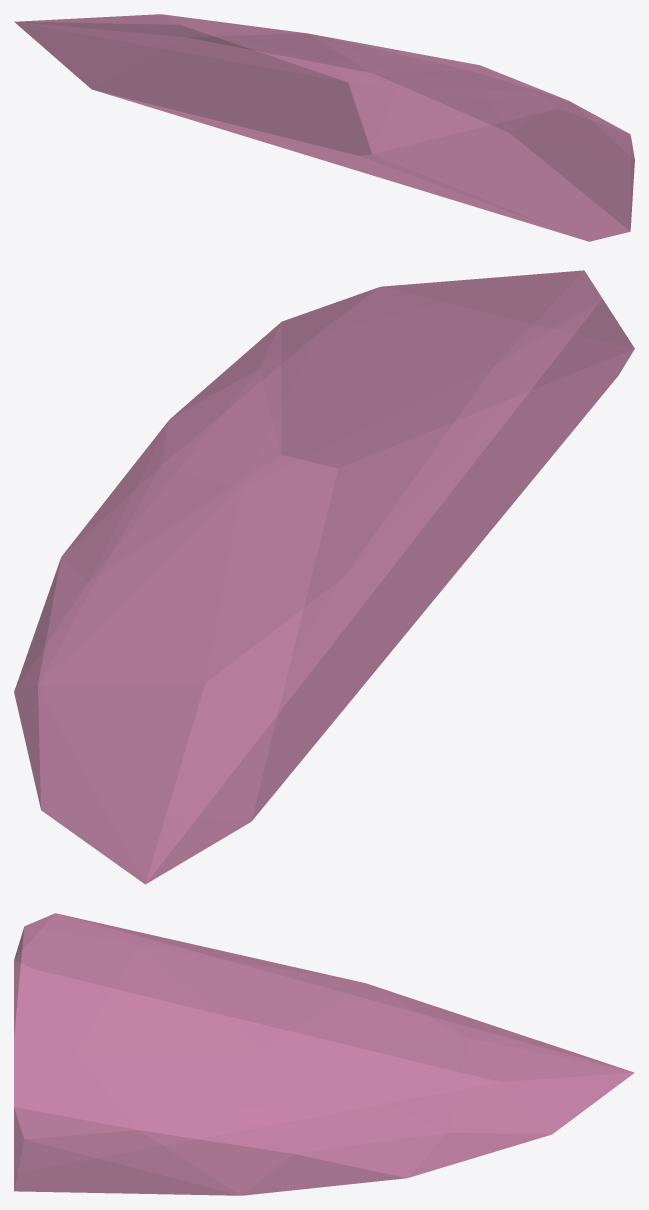
The picture shows the model from 3 angles, top to bottom: view 1: azimuth 30°, elevation 25°; view 2: azimuth 150°, elevation 25°; view 3: azimuth 270°, elevation 25°; orthographic projection. The views are drawn at different scales.
Parts seen in each view (by area): view 1: Shape_IndexedFaceSet.037_Shape_IndexedFaceSet.635; view 2: Shape_IndexedFaceSet.037_Shape_IndexedFaceSet.635; view 3: Shape_IndexedFaceSet.037_Shape_IndexedFaceSet.635.
Part boxes in pixels (x1=…): Shape_IndexedFaceSet.037_Shape_IndexedFaceSet.635: x1=14, y1=14, x2=634, y2=241; Shape_IndexedFaceSet.037_Shape_IndexedFaceSet.635: x1=14, y1=270, x2=634, y2=884; Shape_IndexedFaceSet.037_Shape_IndexedFaceSet.635: x1=14, y1=913, x2=634, y2=1195.
Size of the model in its own units: 0.0484 by 0.0335 by 0.1118.
